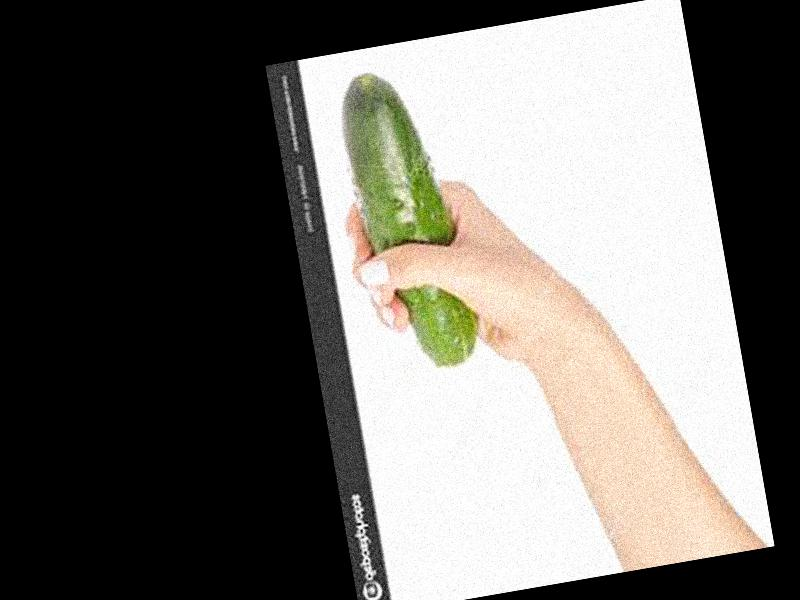Cucumber: (333, 61, 484, 376)
